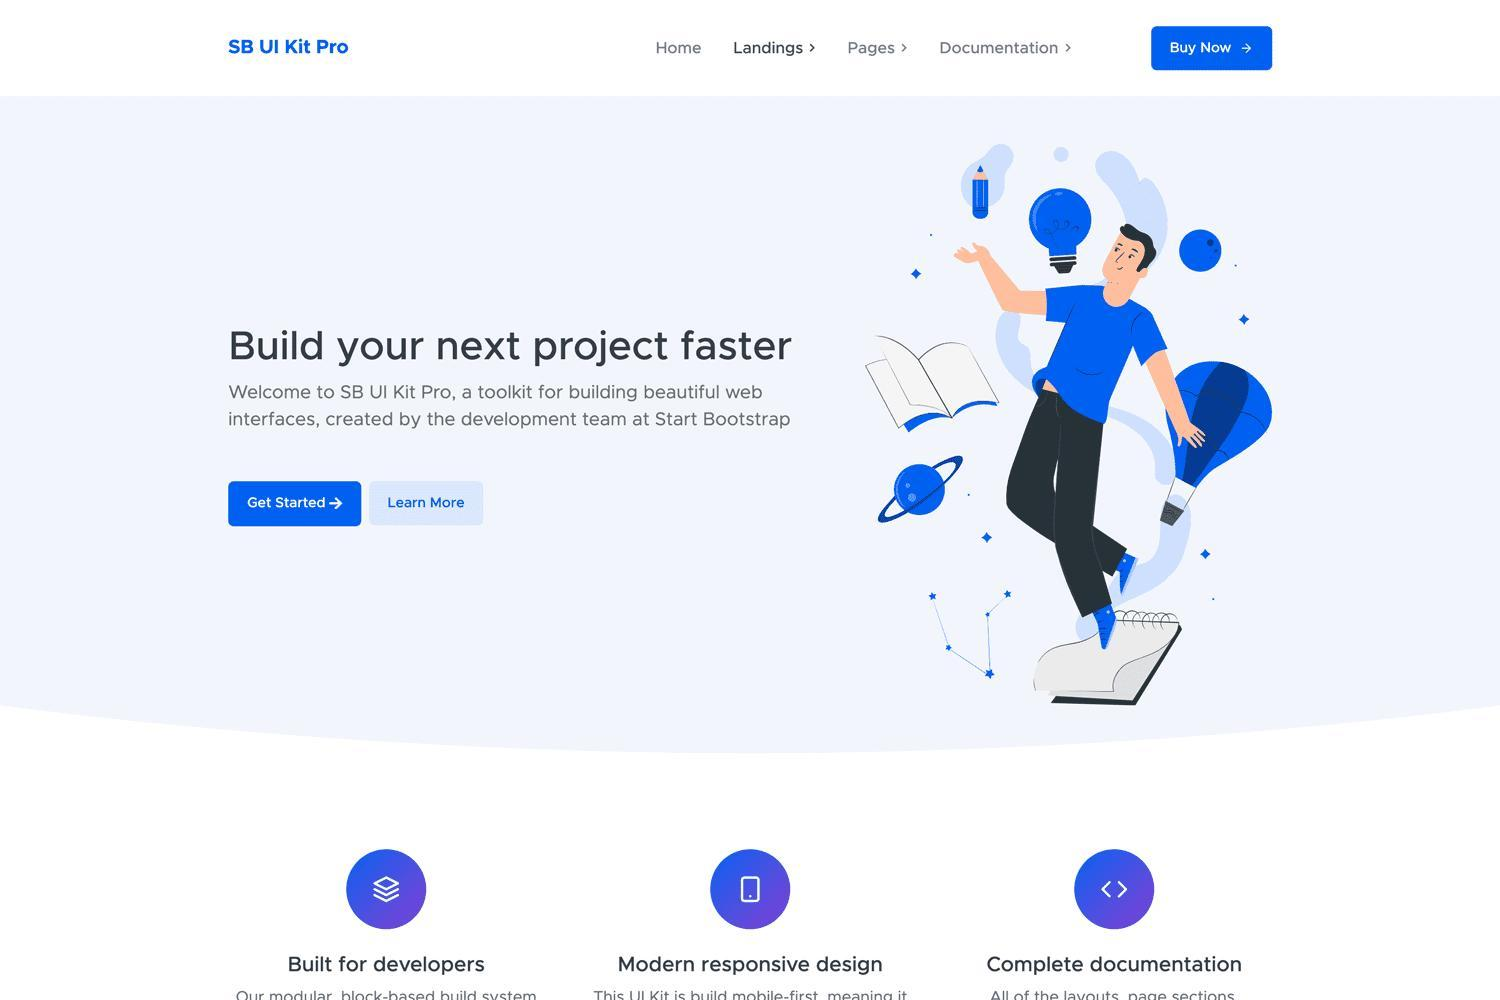button: (227, 479, 365, 530), (367, 478, 487, 532), (1153, 26, 1275, 73)
label: (937, 40, 1074, 64), (727, 35, 821, 64), (840, 40, 912, 64), (651, 37, 704, 64)
